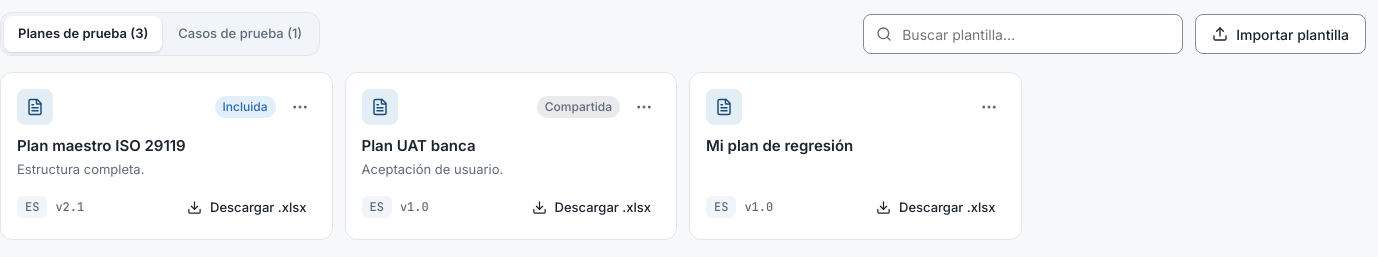
Test: TemplatesTab › filters by name or description and says when nothing matches
Type "aceptación" into the search field labelled "Buscar plantilla" at (1035, 34), box top-left (900, 15), bottom-right (1170, 53)
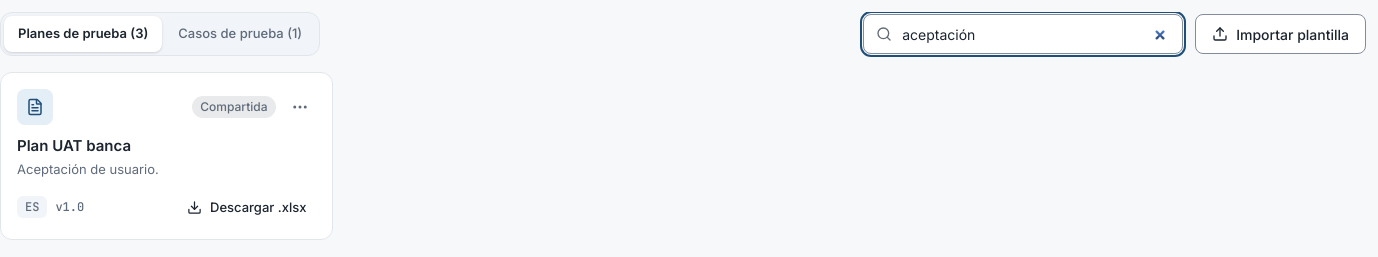
Result: the number of list items with test id "template-card" is 1 at top-left (0, 72), bottom-right (332, 240)
Type " xyz" into the search field at (1035, 34), box top-left (900, 15), bottom-right (1170, 53)
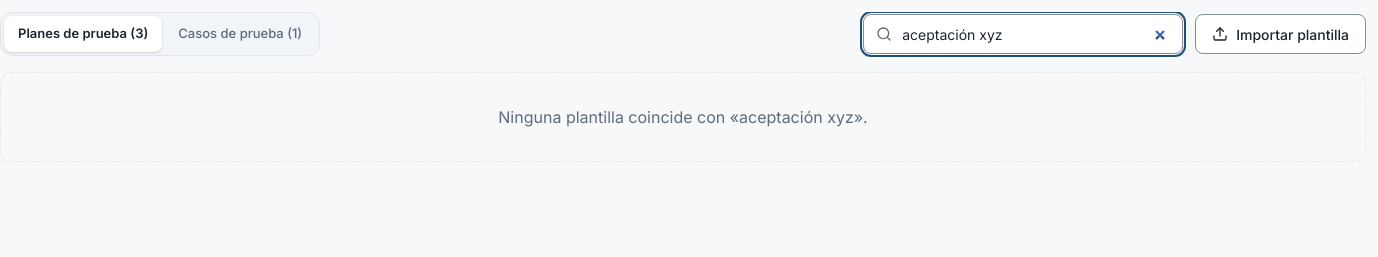
Result: the message shows "Ninguna plantilla coincide" at top-left (498, 107), bottom-right (868, 127)
